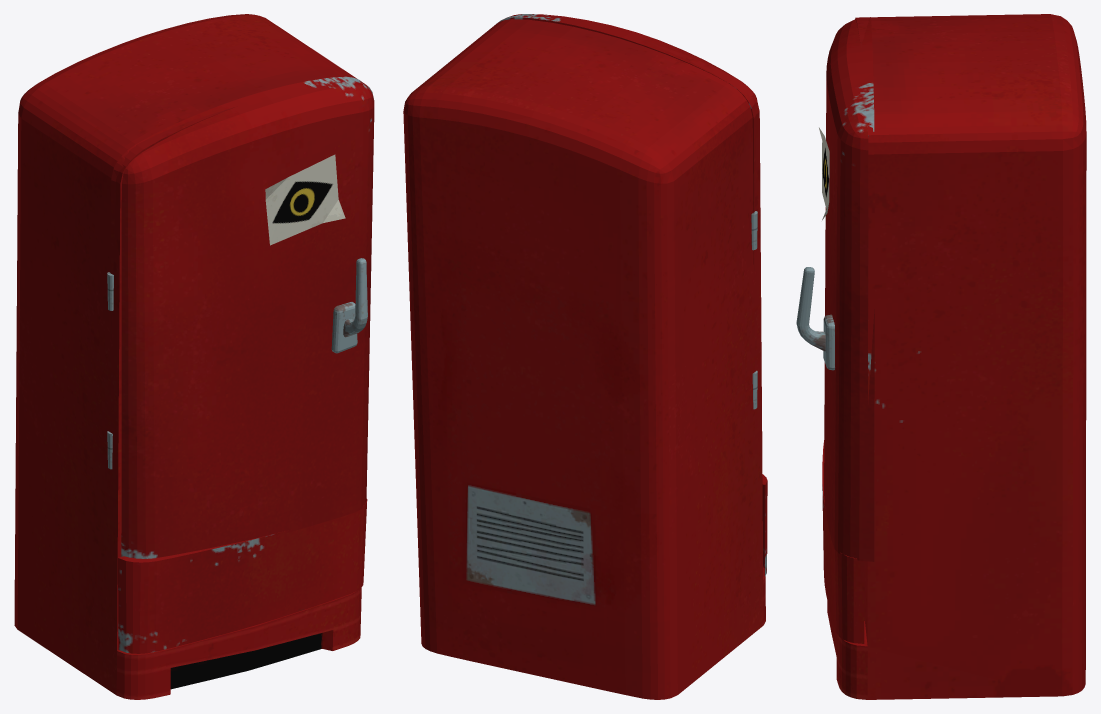
File: fridge.glb
3 renders of one model, left to right at view 1: azimuth 30°, elevation 25°; view 2: azimuth 150°, elevation 25°; view 3: azimuth 270°, elevation 25°, orthographic. The views are drawn at different scales.
Parts seen in each view (by area): view 1: Object_3, Object_2; view 2: Object_3, Object_2; view 3: Object_3, Object_2.
Boxes of the visible parts, x1,y1,x2,y2 form: Object_3: (14, 14, 374, 699); Object_2: (107, 76, 374, 558); Object_3: (403, 19, 767, 699); Object_2: (496, 14, 757, 409); Object_3: (822, 14, 1086, 699); Object_2: (796, 17, 874, 561).
Bounding box in the file's own units: 4.46 × 8.8 × 3.91.
2 materials, 2 textured.
